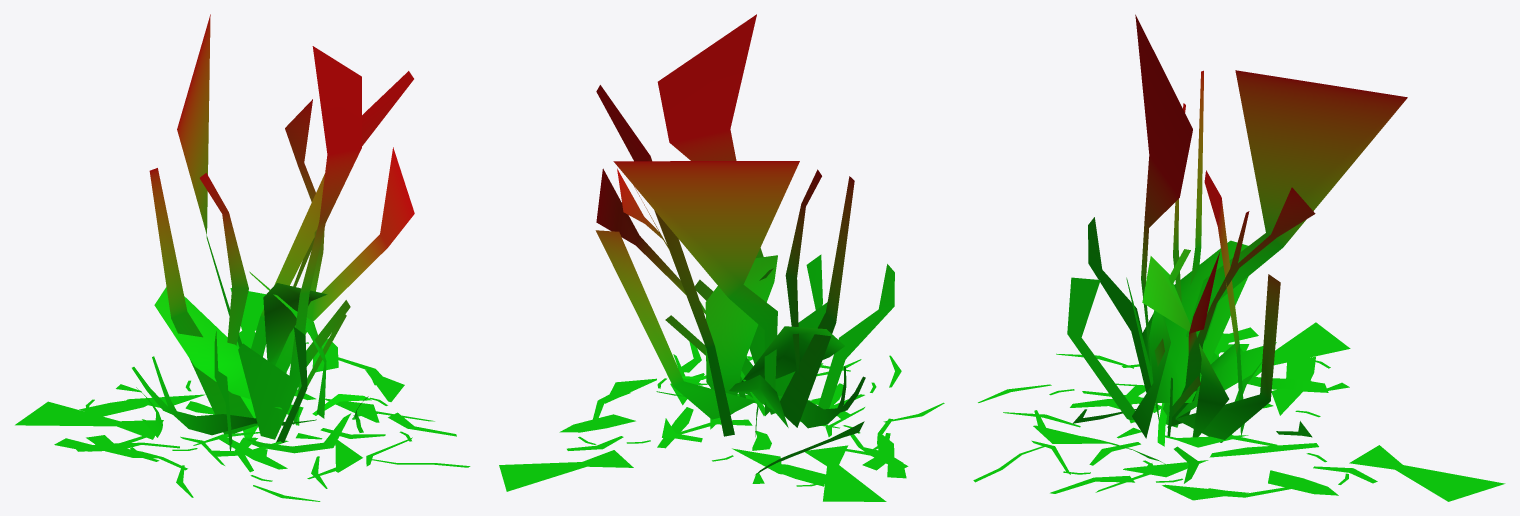
File: Dead Shrubs_LOD3_Var3_vdknbbuha.fbx
3 views of the same model, side by side, from view 1: azimuth 30°, elevation 25°; view 2: azimuth 150°, elevation 25°; view 3: azimuth 270°, elevation 25° (orthographic). The views are drawn at different scales.
Parts seen in each view (by area): view 1: _duld_Var3_LOD3; view 2: _duld_Var3_LOD3; view 3: _duld_Var3_LOD3.
Boxes of the visible parts, x1,y1,x2,y2 form: _duld_Var3_LOD3: (15, 14, 470, 501); _duld_Var3_LOD3: (499, 14, 944, 501); _duld_Var3_LOD3: (973, 14, 1505, 501).
Bounding box in the file's own units: 43.1 × 47.28 × 52.11.
